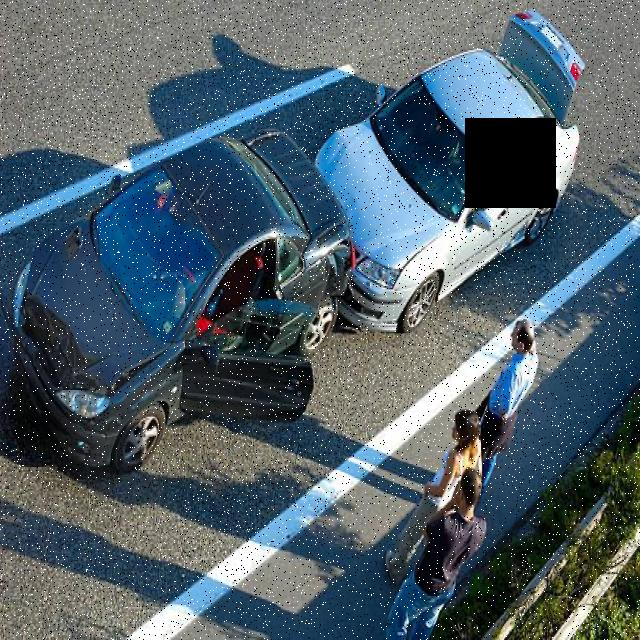moderate: (6, 16, 590, 486)
